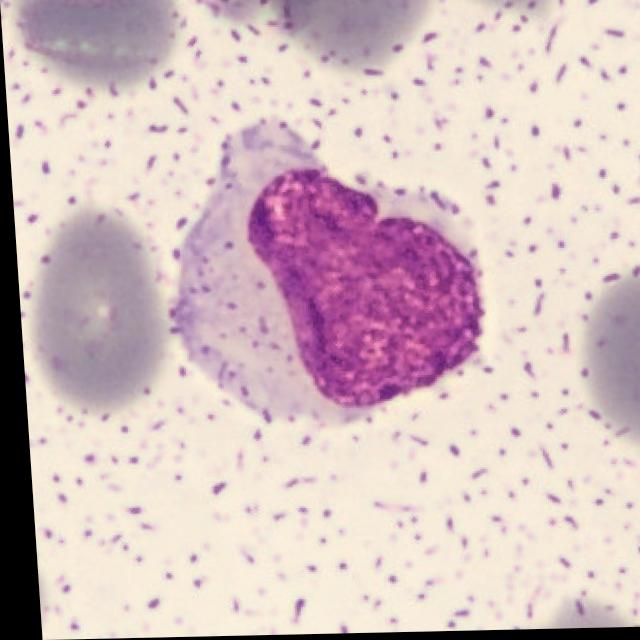Mieloblasto: (154, 120, 479, 425)
